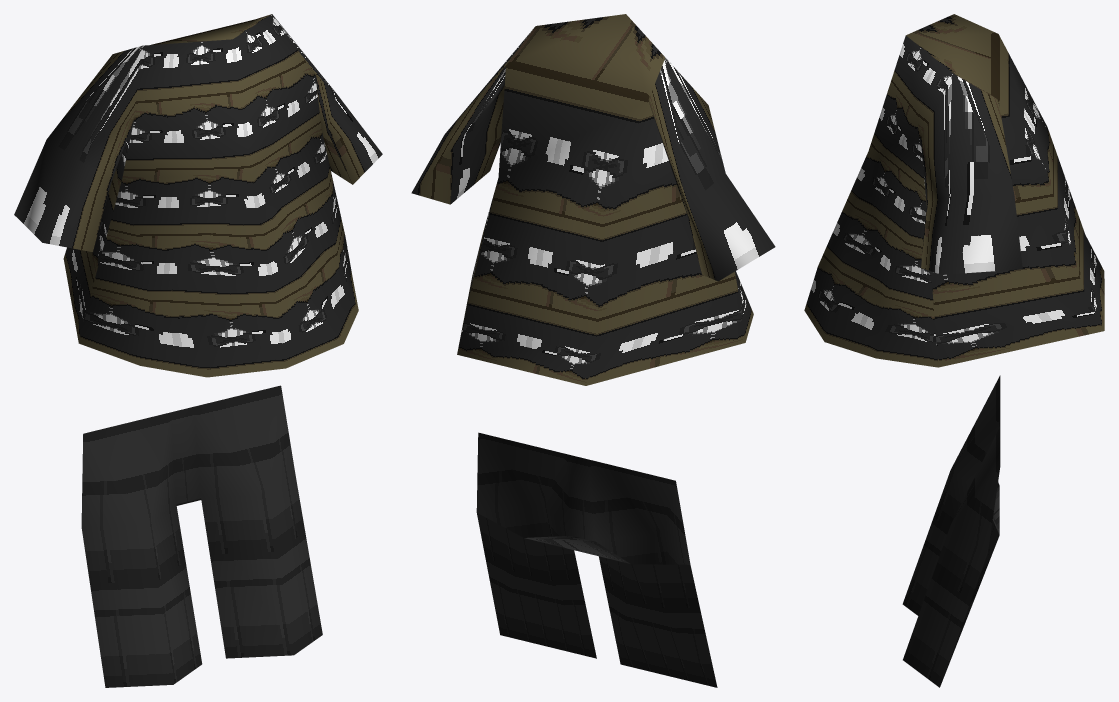
Rendered from 1748cl_set_bot.gltf.
The picture shows the model from 3 angles, left to right: view 1: azimuth 30°, elevation 25°; view 2: azimuth 150°, elevation 25°; view 3: azimuth 270°, elevation 25°; orthographic projection. The views are drawn at different scales.
Visible parts, largest first — view 1: 1748cl_set_bot; view 2: 1748cl_set_bot; view 3: 1748cl_set_bot.
Boxes of the visible parts, x1=… form: 1748cl_set_bot: x1=14, y1=14, x2=382, y2=687; 1748cl_set_bot: x1=411, y1=14, x2=775, y2=687; 1748cl_set_bot: x1=804, y1=14, x2=1104, y2=687.
Bounding box in the file's own units: 1.09 × 1.96 × 0.8848.
Materials: 2 (2 with a texture image).
